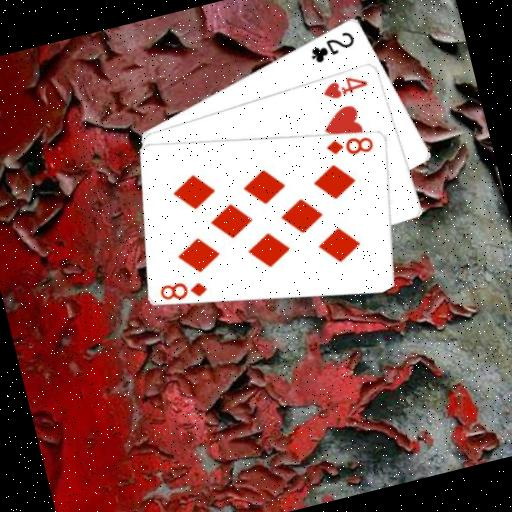2C: (304, 27, 360, 67)
4H: (318, 69, 371, 103)
8D: (322, 128, 377, 164), (156, 272, 211, 307)
